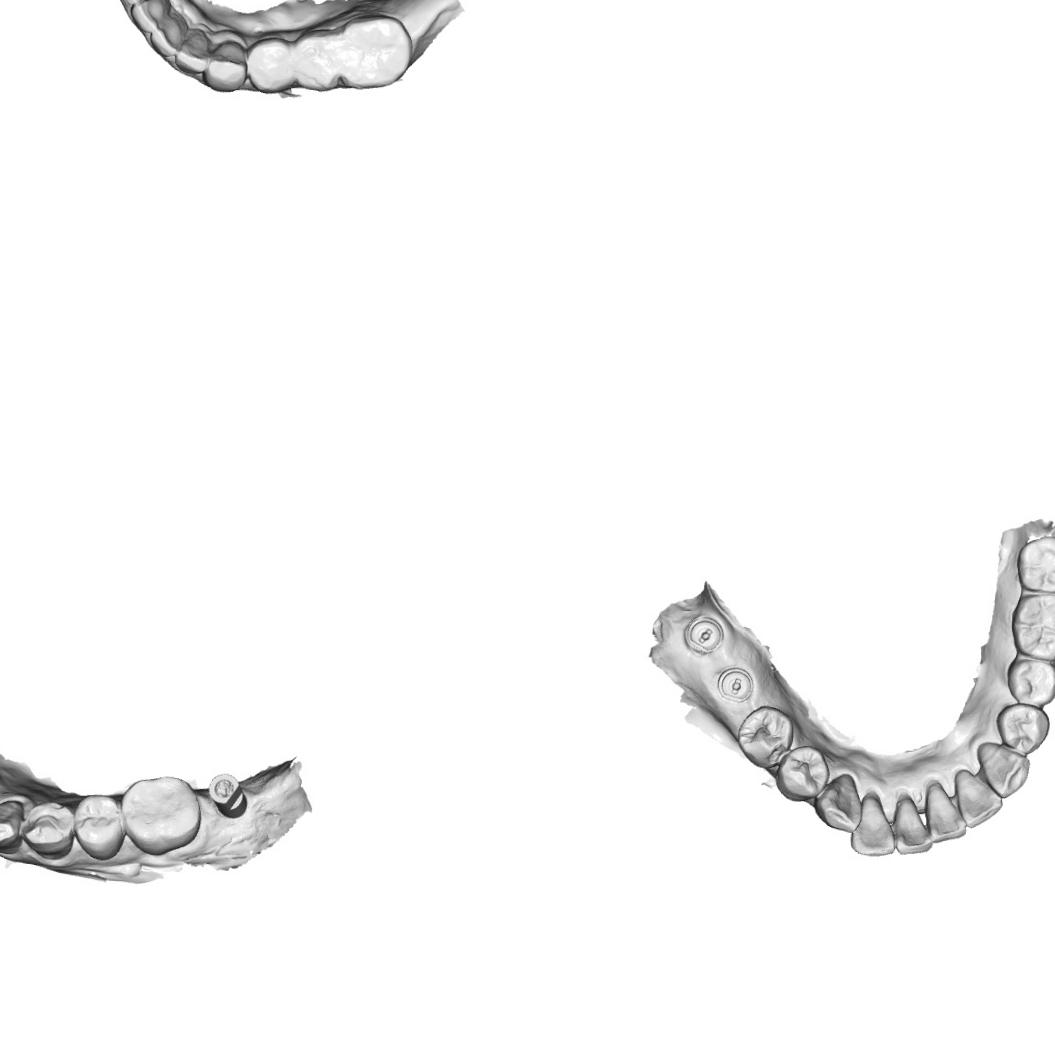canine: (973, 741, 1034, 800), (812, 768, 864, 834), (202, 37, 248, 94), (0, 797, 25, 856)
implant: (206, 770, 249, 820)
implant_minus: (682, 614, 725, 658), (716, 666, 754, 704)
incisor: (951, 768, 1005, 830), (848, 795, 898, 858), (921, 781, 969, 846), (888, 794, 935, 858), (149, 10, 189, 58), (173, 27, 211, 75), (128, 0, 173, 34)
molar: (121, 774, 203, 858), (339, 12, 414, 90), (1007, 592, 1055, 663), (1014, 534, 1055, 596)
premolar: (734, 702, 796, 771), (773, 742, 833, 804), (72, 794, 122, 862), (992, 701, 1052, 757), (21, 799, 74, 862), (290, 27, 341, 92), (243, 34, 295, 95), (1004, 656, 1055, 709)
